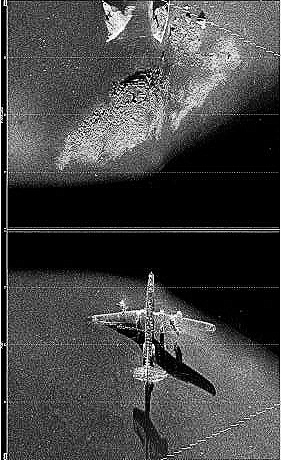plane: (91, 270, 216, 384)
